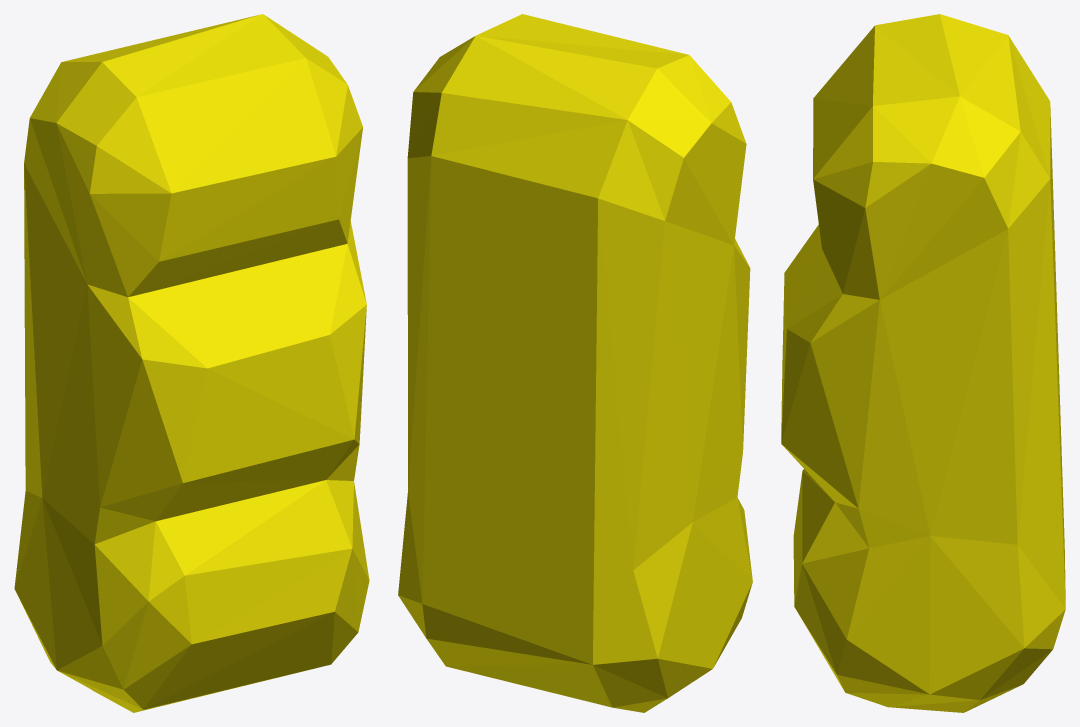
3 views of the same model, side by side, from view 1: azimuth 30°, elevation 25°; view 2: azimuth 150°, elevation 25°; view 3: azimuth 270°, elevation 25° (orthographic). The views are drawn at different scales.
Parts seen in each view (by area): view 1: middle; view 2: middle; view 3: middle.
Boxes of the visible parts, x1,y1,x2,y2 form: middle: (14,14,369,712); middle: (398,14,752,712); middle: (781,14,1065,712).
Bounding box in the file's own units: 17.88 × 16.59 × 39.82.
